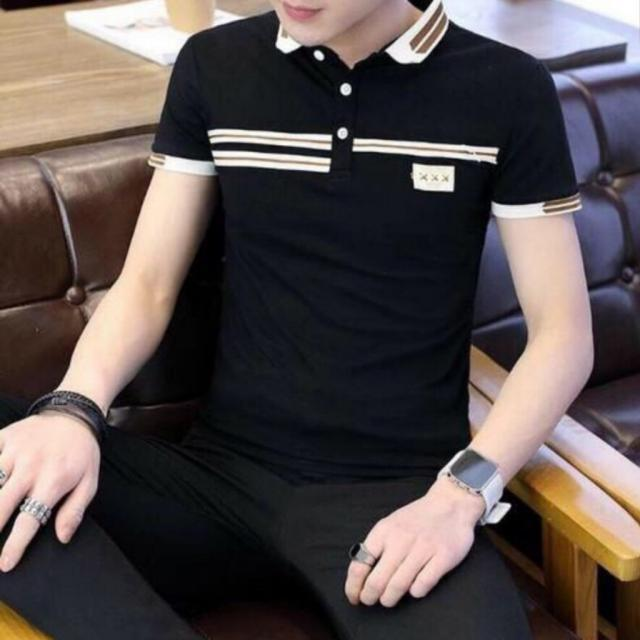Shirt: (147, 1, 581, 492)
